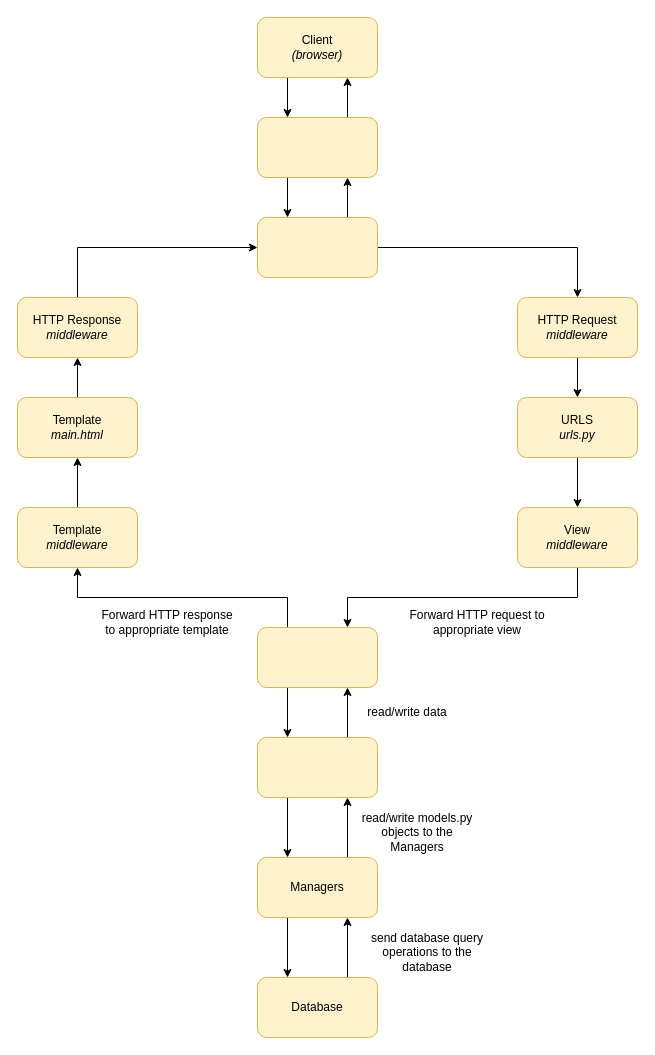
This 655x1055 diagram has some shape labels left out. The centre of each missing label's shape, as x and y in pixels:
"Models models.py" belongs at point (317, 767).
"View views.py" belongs at point (317, 657).
"Web server" belongs at point (317, 147).
"WSGI wsgi.py" belongs at point (317, 247).
